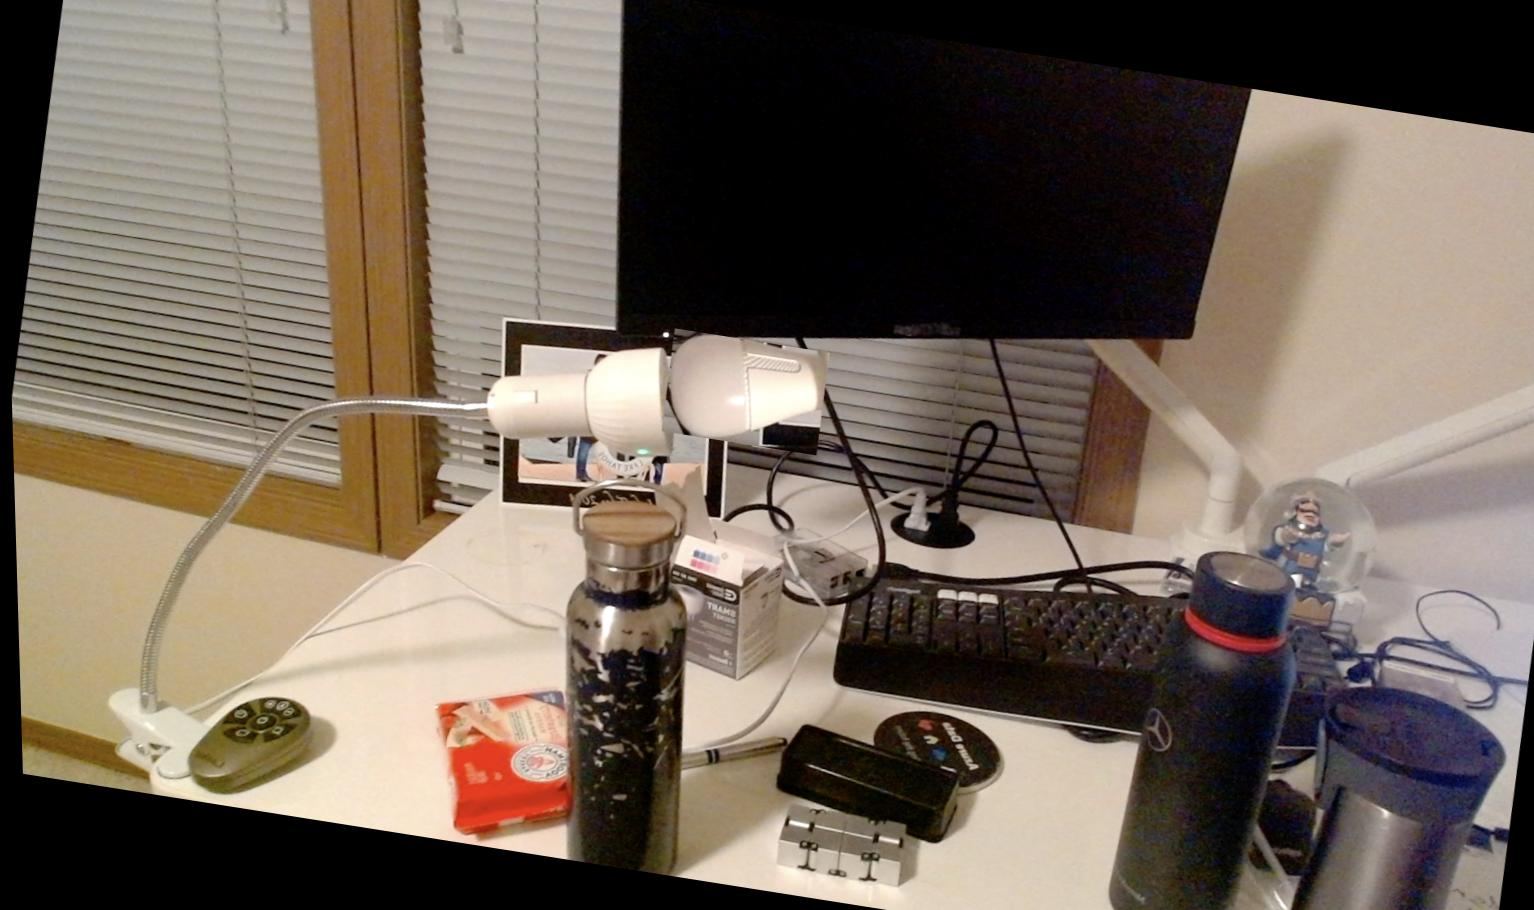Fan: (656, 328, 829, 455)
